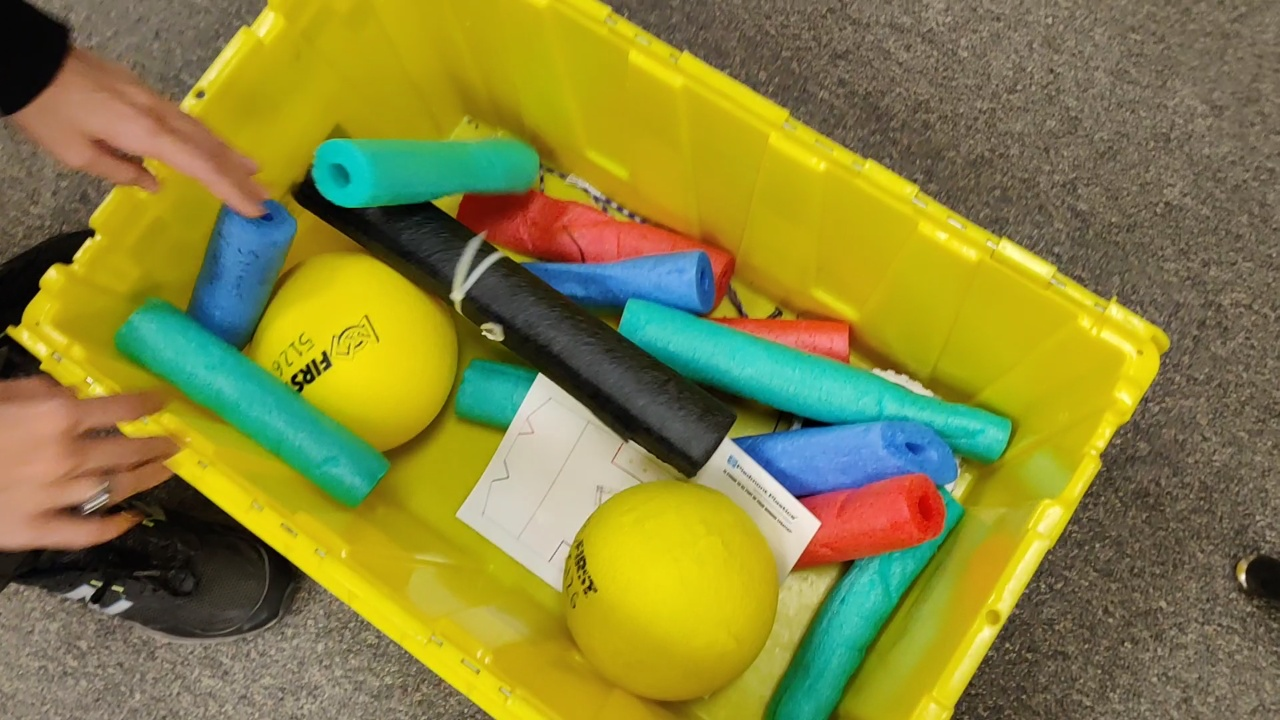Ball: (560, 477, 777, 703), (247, 254, 460, 455)
